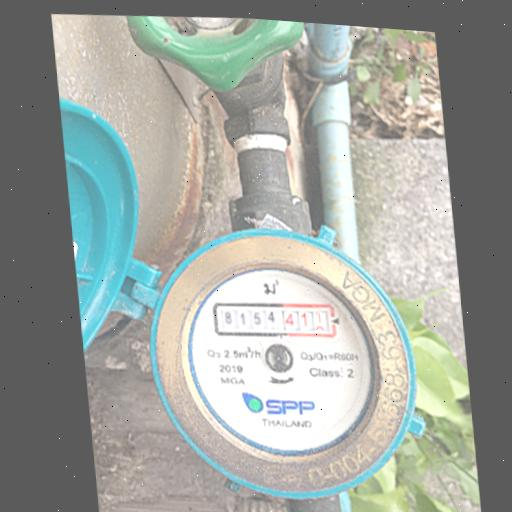1: (298, 311, 313, 332), (314, 312, 328, 333), (237, 311, 251, 331)
4: (283, 311, 298, 332), (266, 311, 280, 332)
5: (252, 309, 266, 330)
8: (222, 309, 236, 330)
border_water_meter_number: (211, 296, 338, 345)
